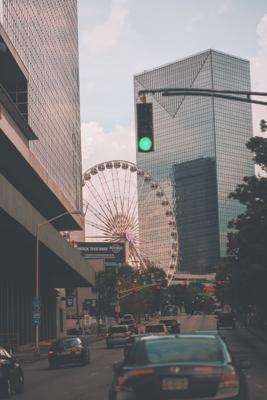International Road Signal Light: (136, 102, 154, 154)
